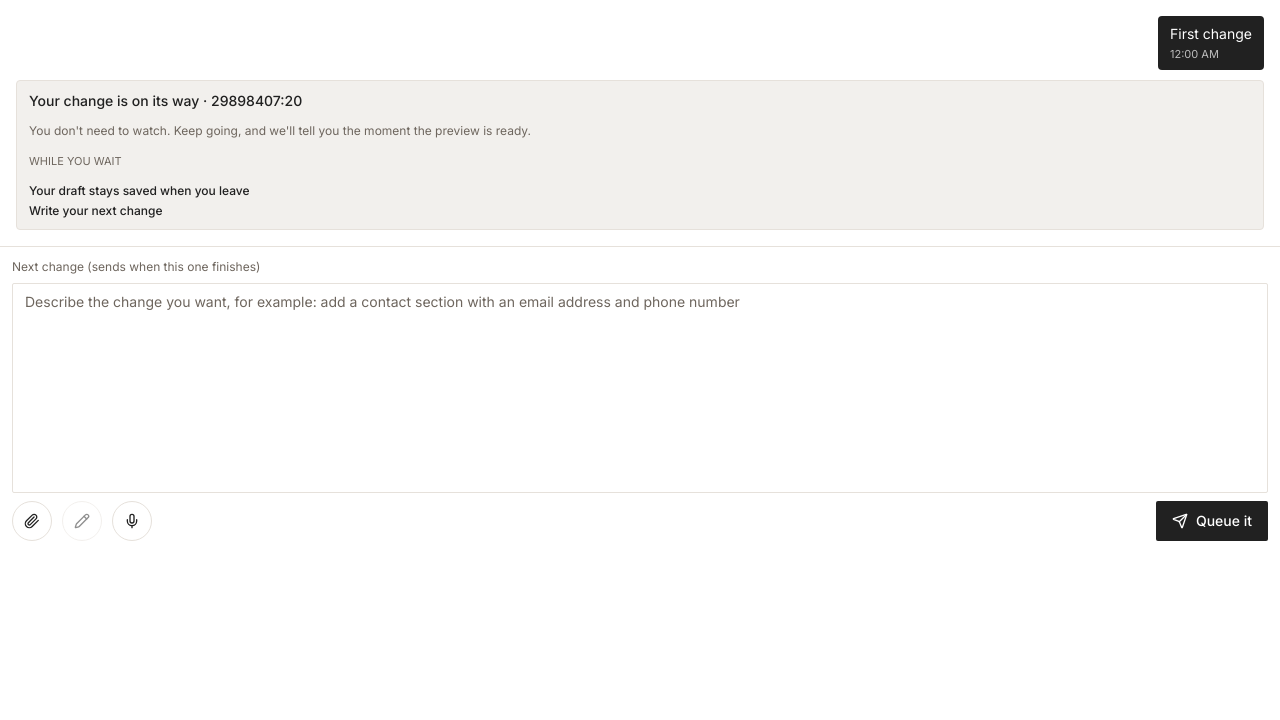
it: keeps the composer usable, queues through the normal payload and sends after reply during preview building
Replace the text in the text box labelled "Next change (sends when this one finishes)" with "Second change": (640, 388) [12,283,1268,493]
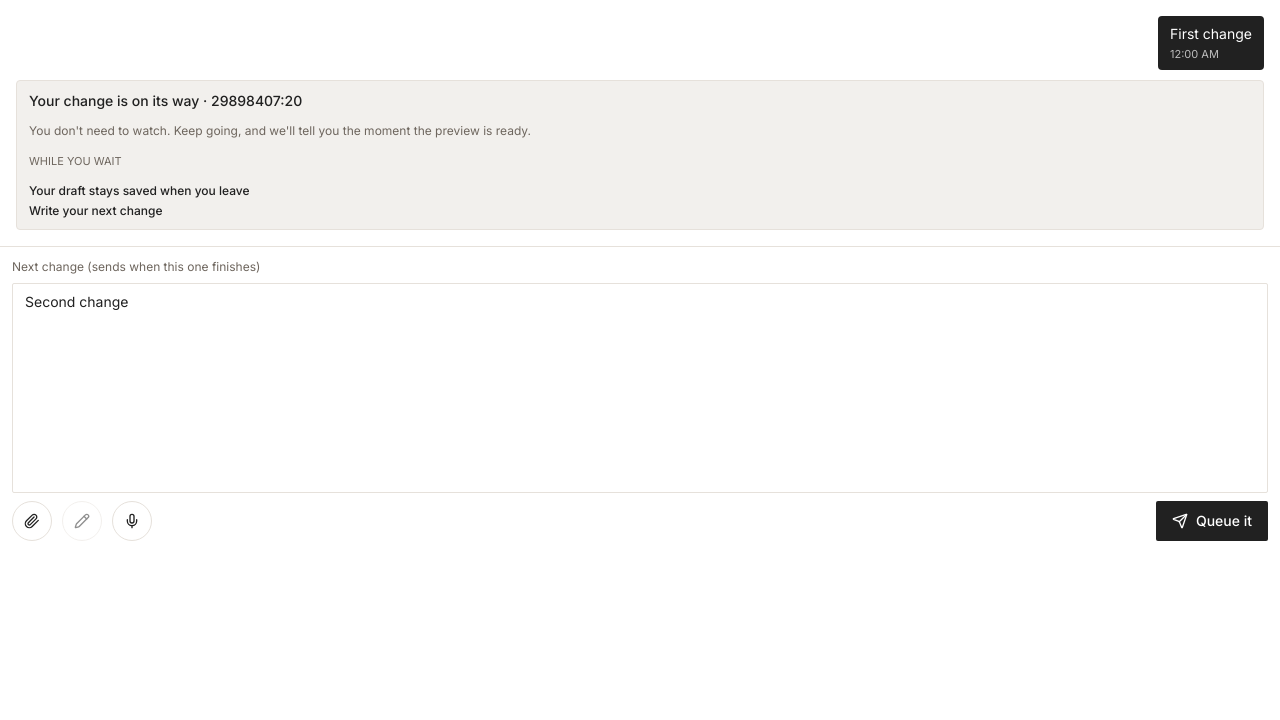
Click the button "Queue it": (1212, 521) [1156,501,1268,541]
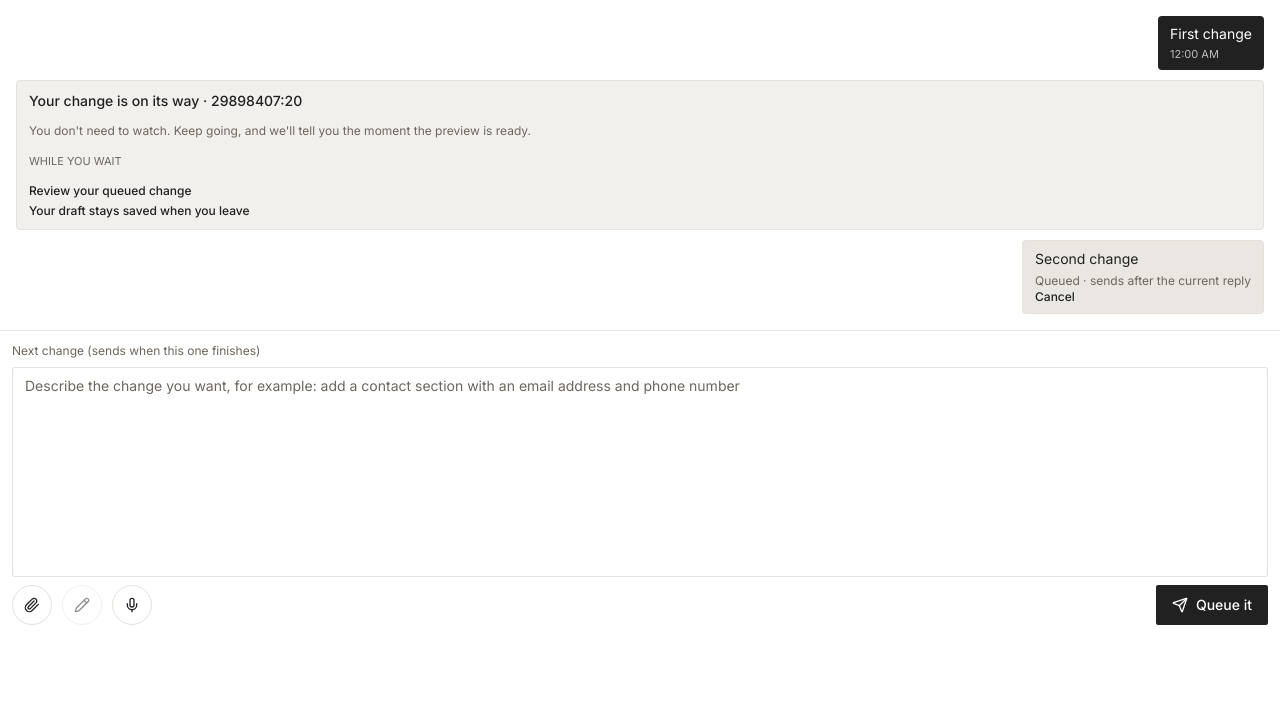
Now the text box labelled "Next change (sends when this one finishes)" is empty, box [12,367,1268,577]
Now the button "Cancel" is shown, box [1035,289,1075,305]
